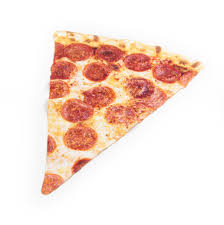pizza: (44, 24, 206, 199)
